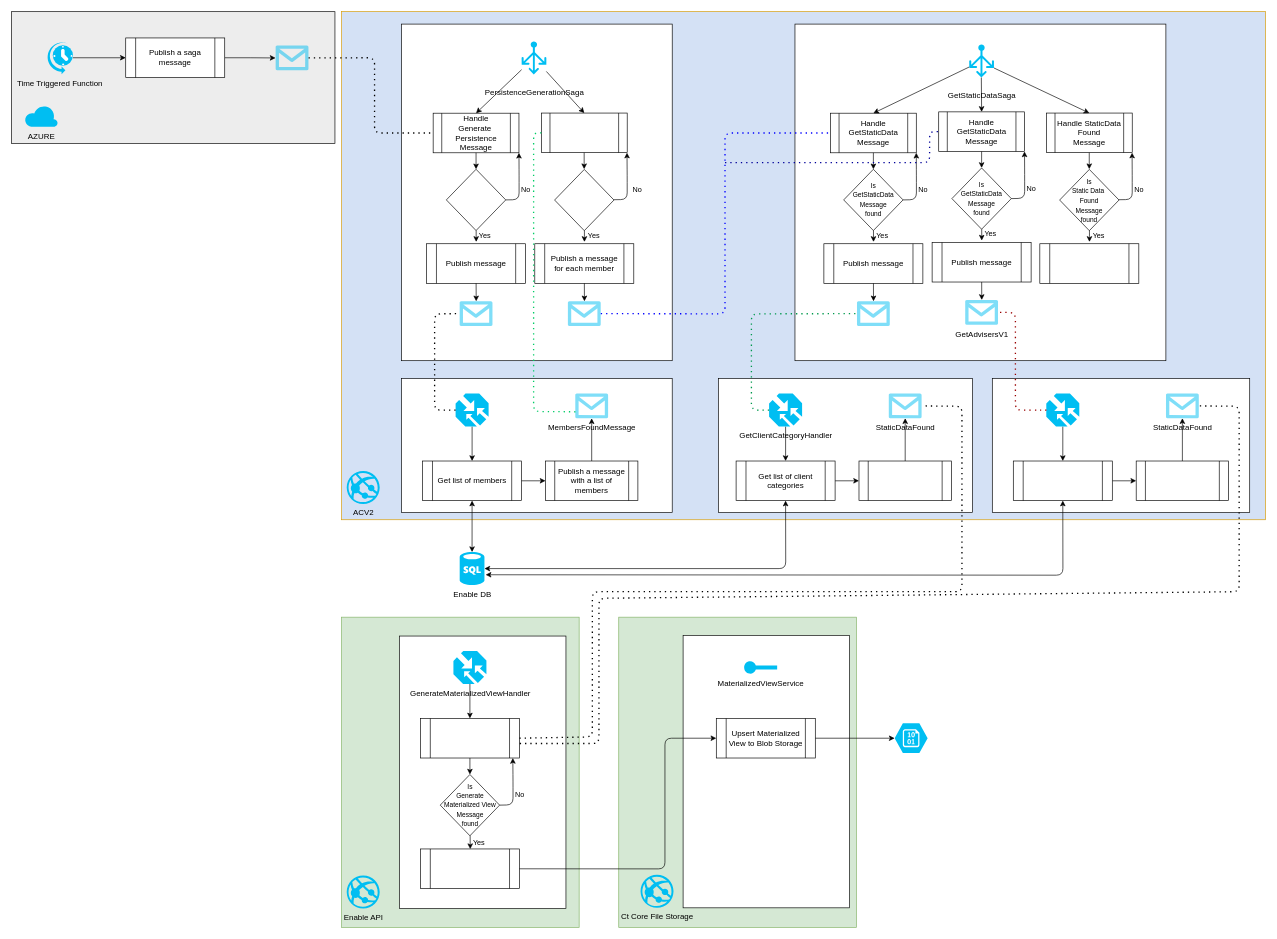
The diagram is 1277 pixels wide and 939 high, and some of its shapes have lost their labels. Here are the shapes that lost their labels. From the top down, the centre of each, then its label:
At (x=291, y=57): "Generate Persistence".
At (x=584, y=132): "Handle Members Found Message".
At (x=476, y=200): "Is Generate Persistence Message found".
At (x=584, y=200): "Is Members Found Message found".
At (x=1089, y=263): "Complete Saga".
At (x=475, y=313): "GetMembersV1".
At (x=583, y=313): "GetStaticData".
At (x=873, y=313): "GetClientCategoriesV1".
At (x=471, y=409): "GetMembersHandler".
At (x=1062, y=409): "GetAdvisersHandler".
At (x=904, y=480): "Publish a message with a list of client categories".
At (x=1062, y=480): "Get list of advisers".
At (x=1182, y=480): "Publish a message with a list of advisers".
At (x=469, y=738): "Handle Static Data Found Message".
At (x=910, y=738): "Azure Blob Storage".
At (x=469, y=868): "Call Materialized View Service to Upsert Materialized View".
